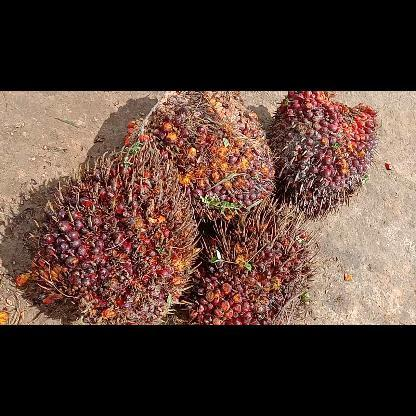TBS masak: (29, 140, 201, 324), (126, 90, 278, 222), (186, 198, 319, 324), (268, 90, 380, 218)
